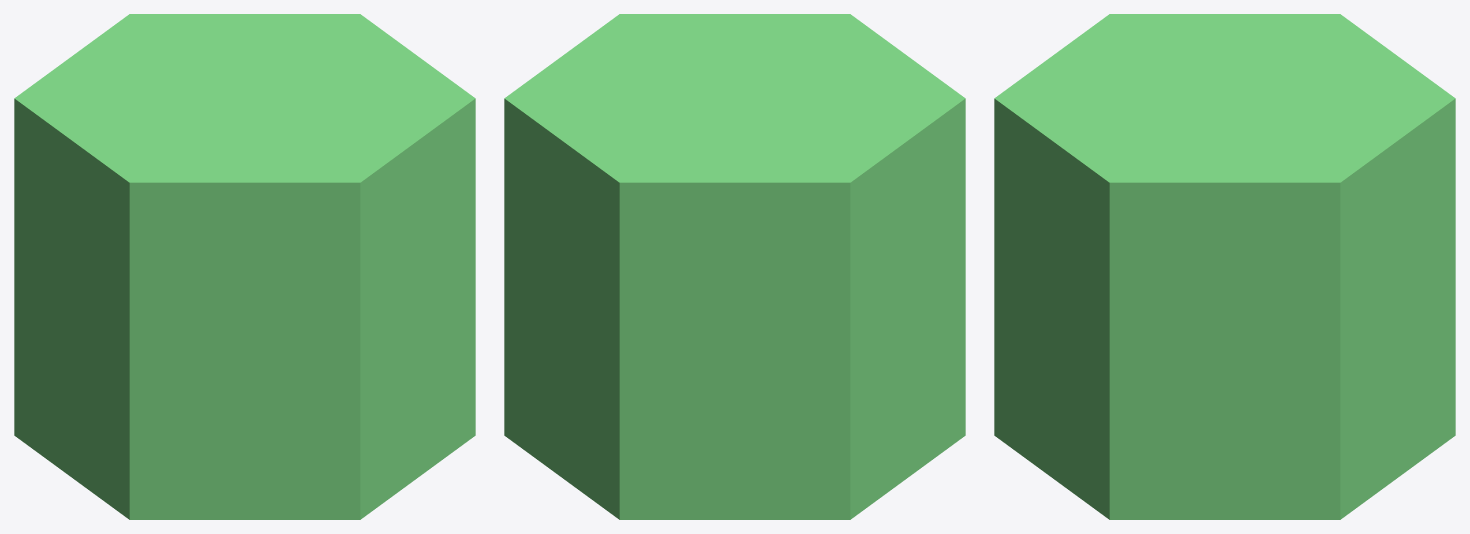
Rendered from test_hex2bigger.fbx.
3 renders of one model, left to right at view 1: azimuth 30°, elevation 25°; view 2: azimuth 150°, elevation 25°; view 3: azimuth 270°, elevation 25°, orthographic.
Parts seen in each view (by area): view 1: test_hex2bigger; view 2: test_hex2bigger; view 3: test_hex2bigger.
Part boxes in pixels (left/top/right/bottom): test_hex2bigger: left=14, top=14, right=475, bottom=519; test_hex2bigger: left=504, top=14, right=965, bottom=519; test_hex2bigger: left=994, top=14, right=1455, bottom=519.
Size of the model in its own units: 173 by 161 by 200.
